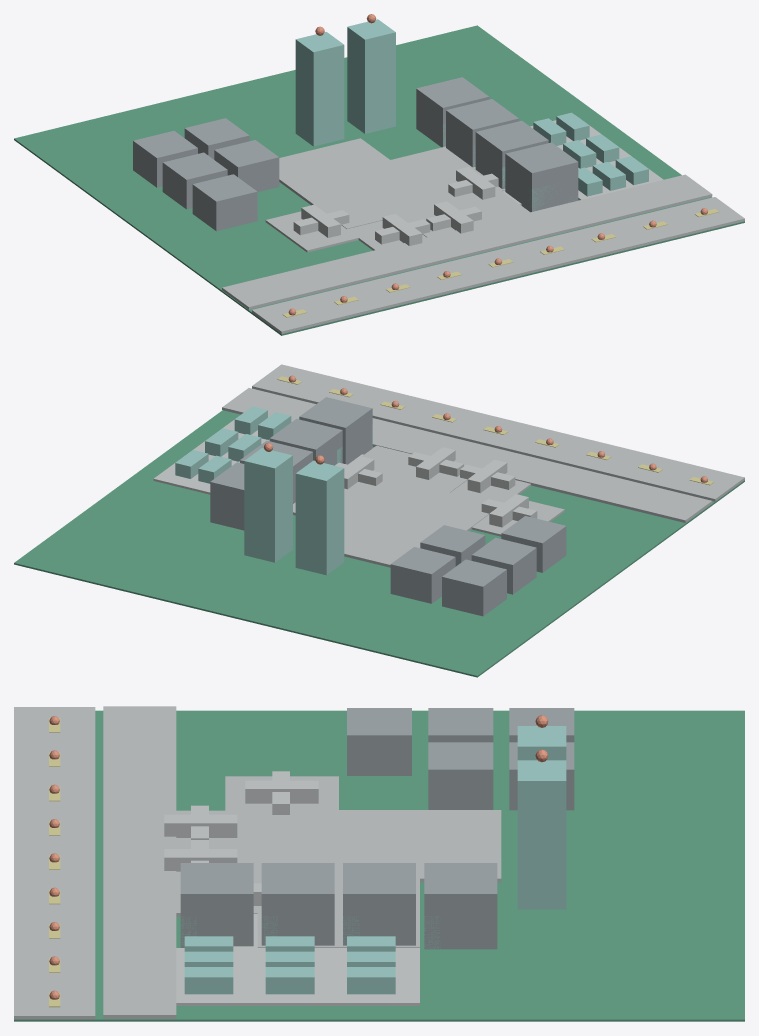
Rendered from stage_25.glb.
The picture shows the model from 3 angles, top to bottom: view 1: azimuth 30°, elevation 25°; view 2: azimuth 150°, elevation 25°; view 3: azimuth 270°, elevation 25°; orthographic projection. The views are drawn at different scales.
Visible parts, largest first — view 1: geometry_0; view 2: geometry_0; view 3: geometry_0.
Part boxes in pixels (x1,y1,x2,y2): geometry_0: [14, 14, 744, 335]; geometry_0: [14, 364, 744, 677]; geometry_0: [14, 706, 744, 1021].
Size of the model in its own units: 9 by 2.06 by 9.
